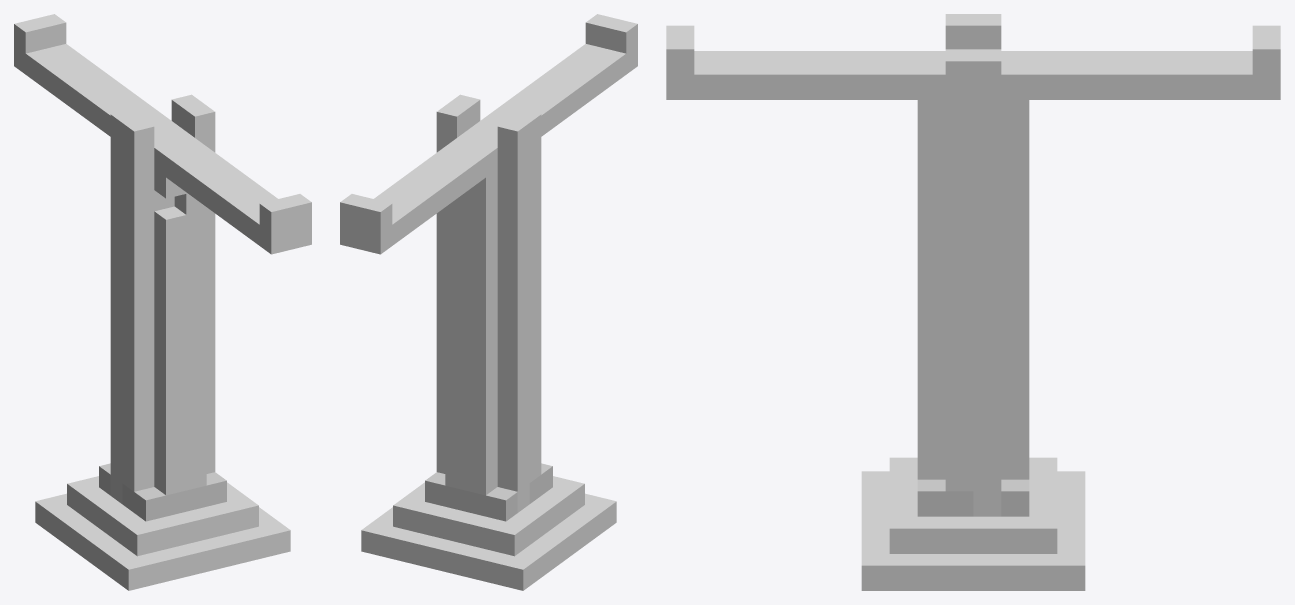
File: Uprav_canter_draft-4.obj
3 renders of one model, left to right at view 1: azimuth 30°, elevation 25°; view 2: azimuth 150°, elevation 25°; view 3: azimuth 270°, elevation 25°, orthographic. The views are drawn at different scales.
Size of the model in its own units: 0.8 by 2 by 2.2.
1 material, 1 textured.
